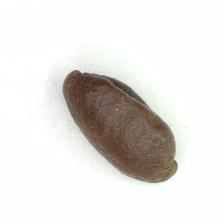NG: (76, 69, 153, 109)
